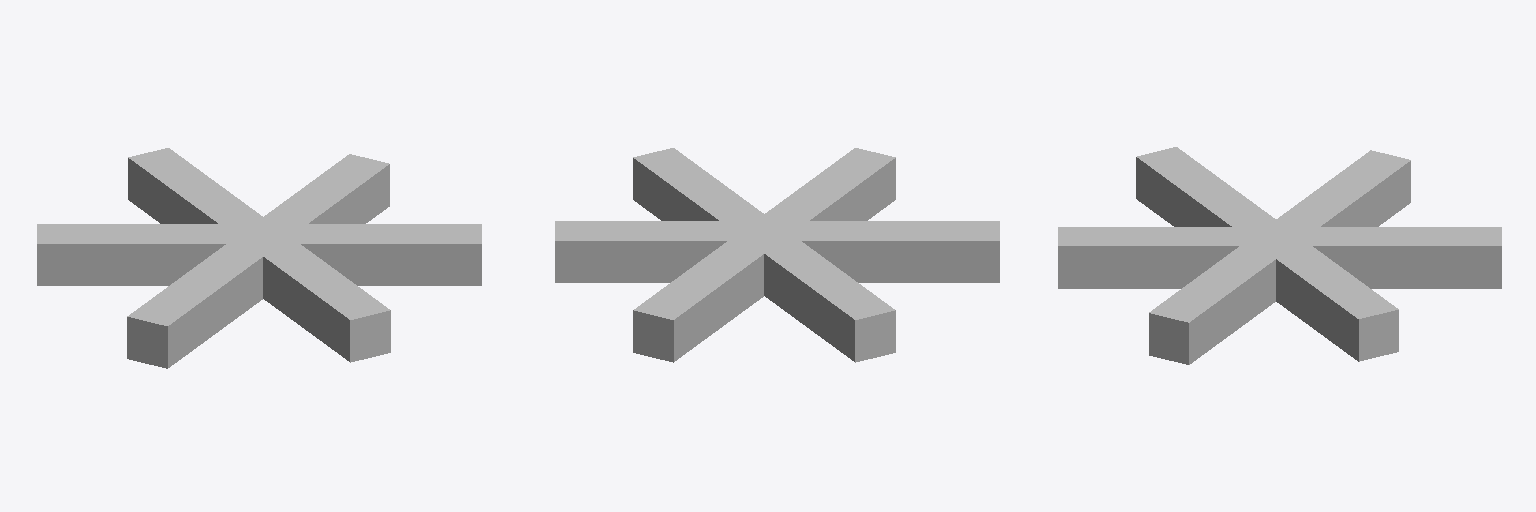
The model's file is snowflake.obj.
3 renders of one model, left to right at view 1: azimuth 30°, elevation 25°; view 2: azimuth 150°, elevation 25°; view 3: azimuth 270°, elevation 25°, orthographic.
Parts seen in each view (by area): view 1: Cube.002_Cube.003; view 2: Cube.002_Cube.003; view 3: Cube.002_Cube.003.
Boxes of the visible parts, x1=… form: Cube.002_Cube.003: x1=37, y1=148, x2=481, y2=368; Cube.002_Cube.003: x1=555, y1=148, x2=999, y2=362; Cube.002_Cube.003: x1=1058, y1=147, x2=1501, y2=364.
Size of the model in its own units: 17.8 by 2 by 19.